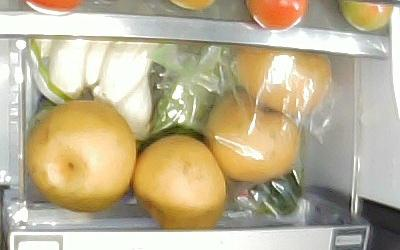pear: (26, 100, 136, 213), (133, 134, 226, 229)
pear_vinyl: (208, 92, 300, 182), (237, 46, 332, 115)
